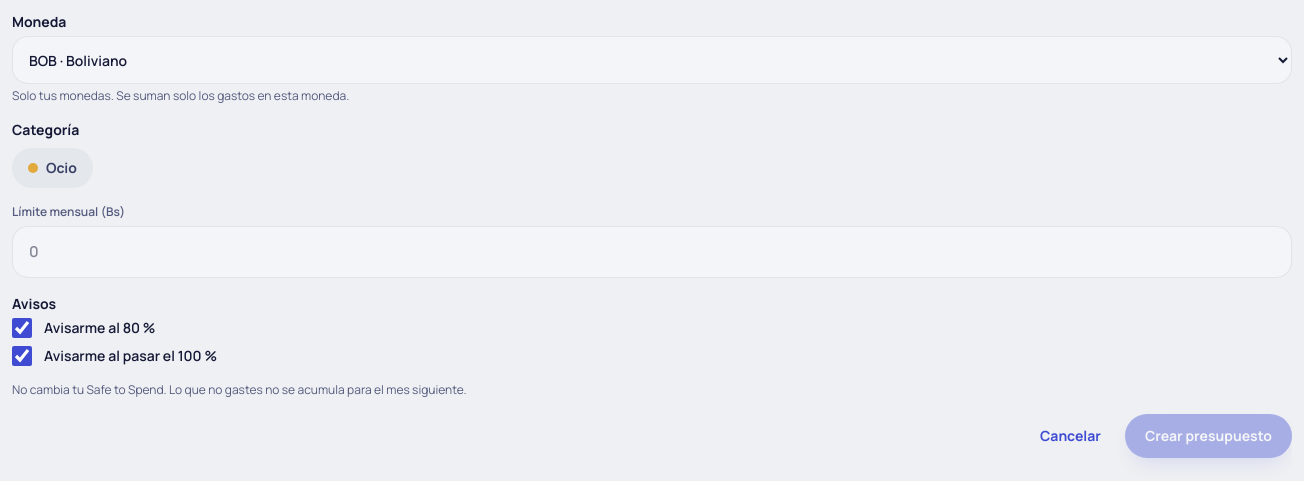
Test: BudgetForm › offers the free categories of the chosen currency and the alerts on
Expected: the button "Ocio" is shown, [12,148,93,188]
Expected: the checkbox labelled "Avisarme al 80 %" is checked, [12,318,32,338]
Select "USD · Dólar estadounidense" in the dropdown labelled "Moneda": [652, 60] box [12,36,1292,84]
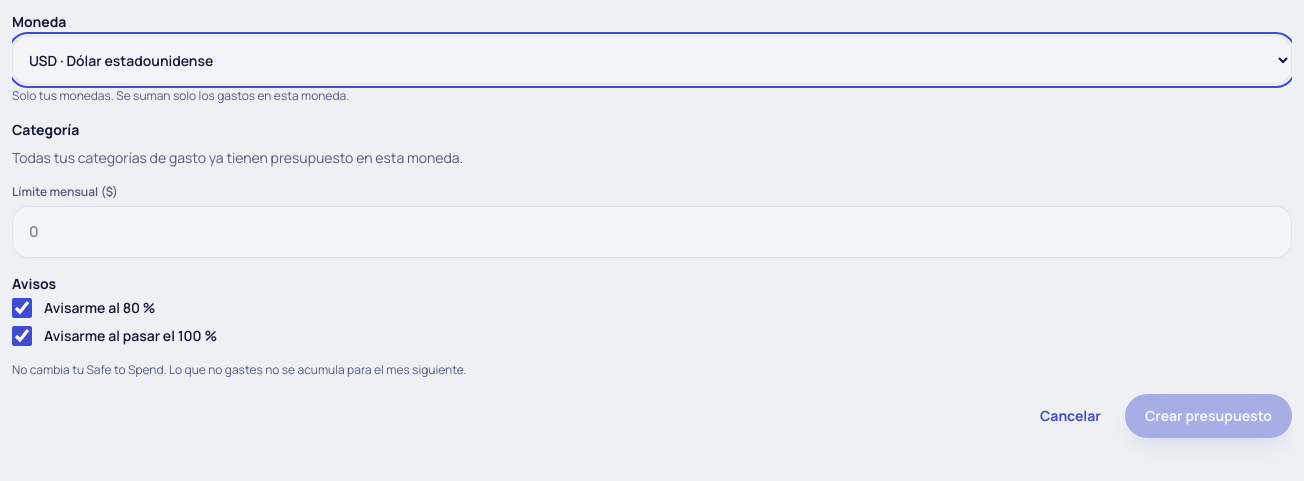
Now the button "Ocio" is gone
Now the text "ya tienen presupuesto en esta moneda" is shown, box [12,148,463,167]
